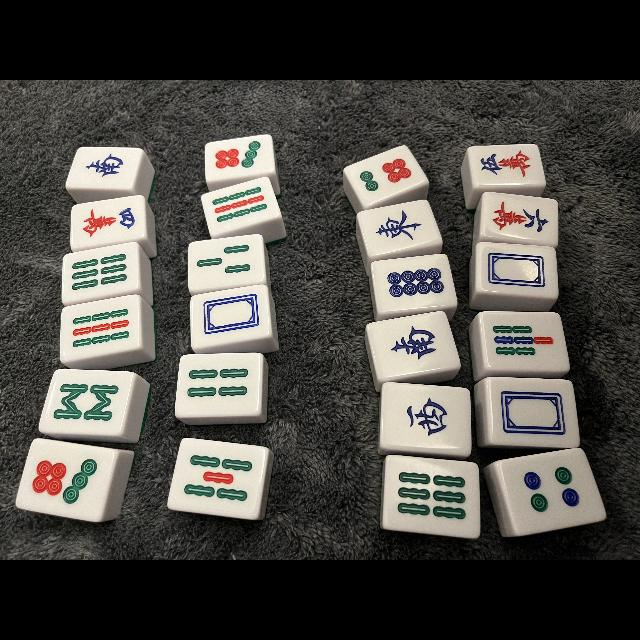b3: (191, 238, 263, 284)
b4: (178, 356, 258, 414)
b5: (173, 442, 263, 510)
b6: (386, 460, 478, 530), (64, 250, 136, 294)
b7: (484, 311, 566, 369)
b8: (47, 371, 126, 434)
b9: (62, 301, 138, 355), (206, 184, 274, 226)
c4: (74, 202, 142, 244)
c5: (472, 144, 542, 183)
c6: (482, 196, 558, 240)
d4: (504, 453, 598, 525)
d6: (353, 153, 417, 193)
d7: (24, 443, 108, 517), (206, 139, 274, 177)
d8: (376, 257, 450, 309)
dw: (490, 379, 576, 445), (478, 243, 556, 295), (192, 290, 268, 340)
we: (364, 206, 436, 250)
ws: (374, 318, 456, 374), (71, 148, 135, 186)
ww: (382, 385, 470, 449)
